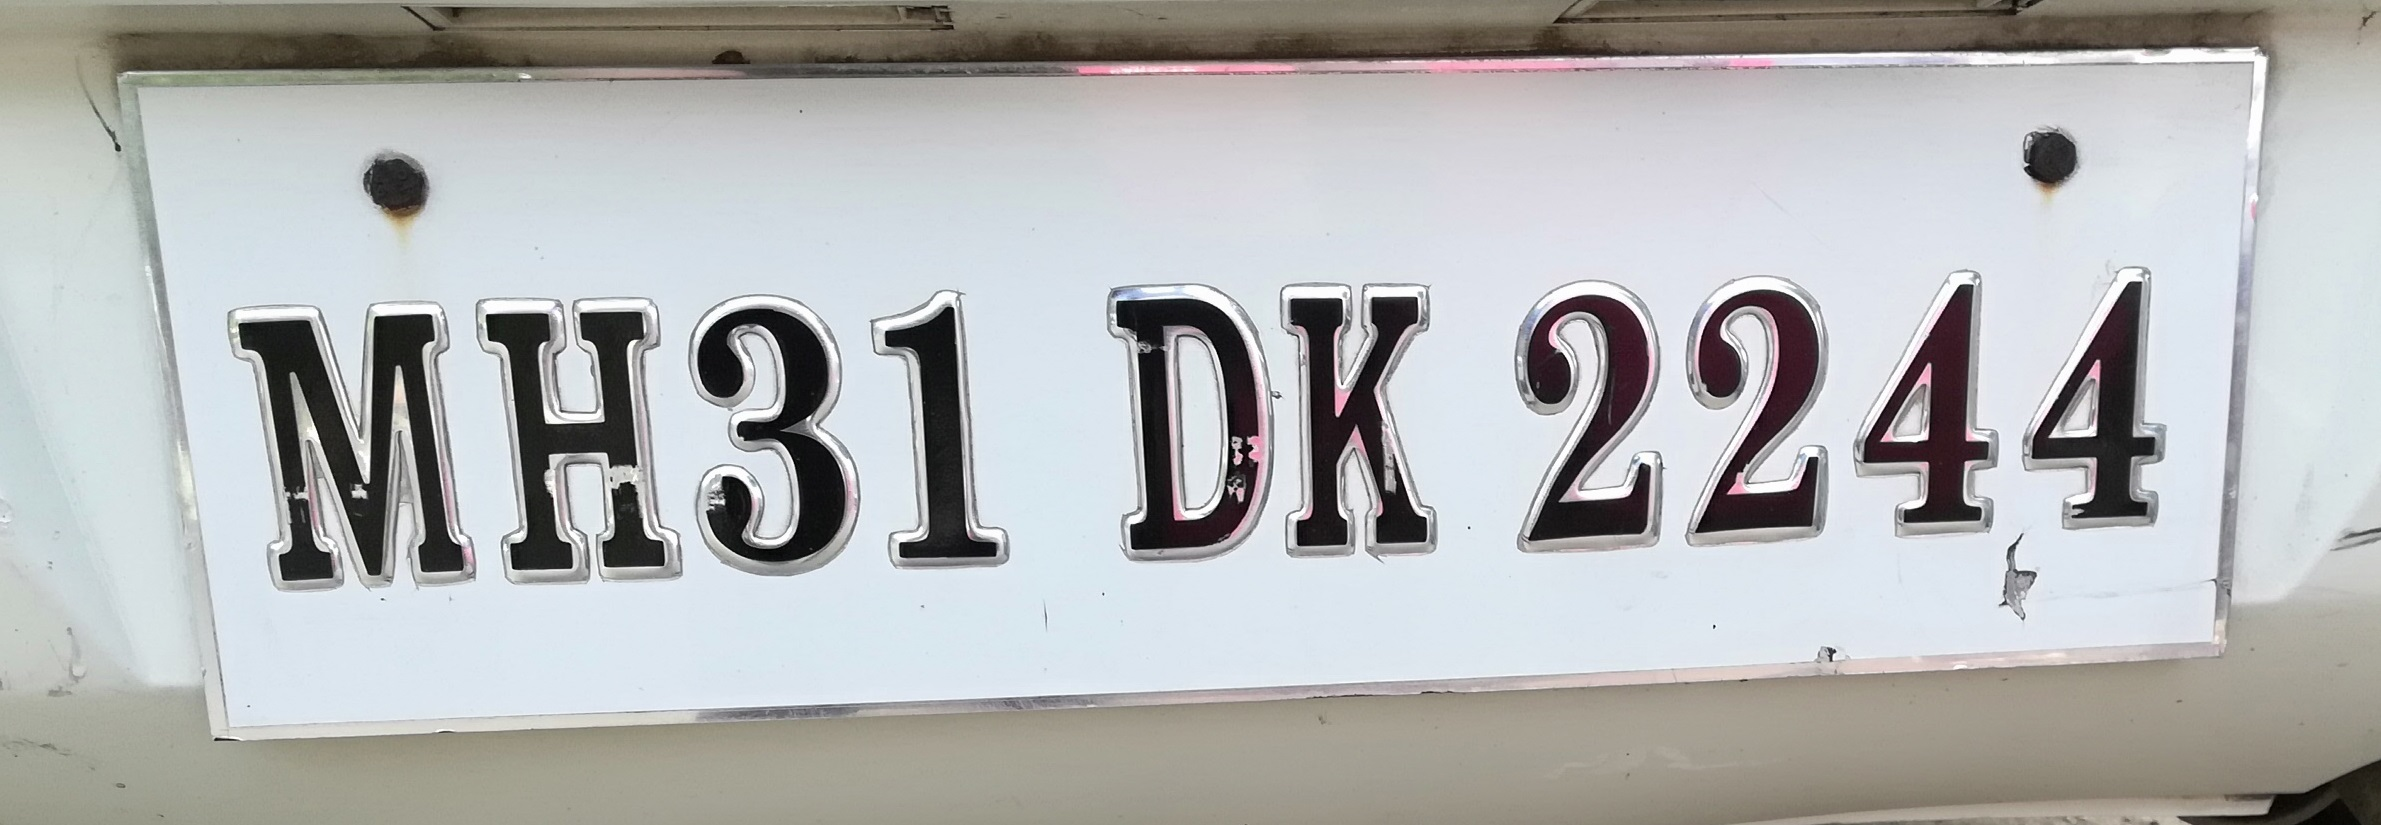numberplate: (107, 56, 2277, 742)
